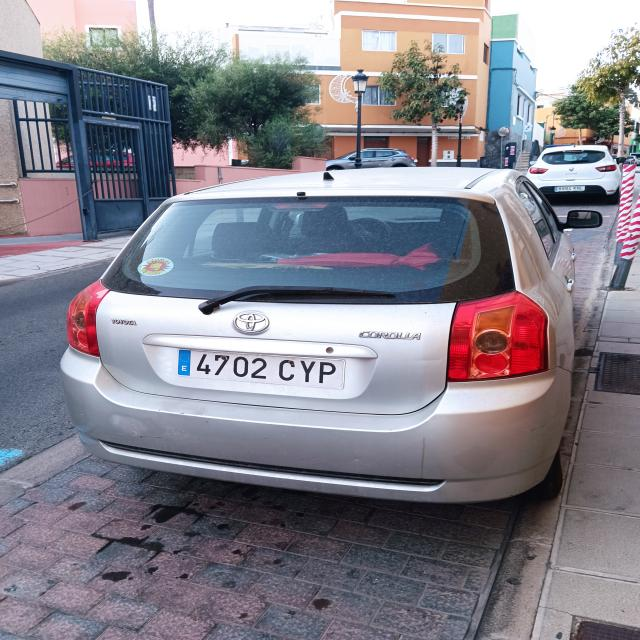football: (179, 349, 344, 388)
